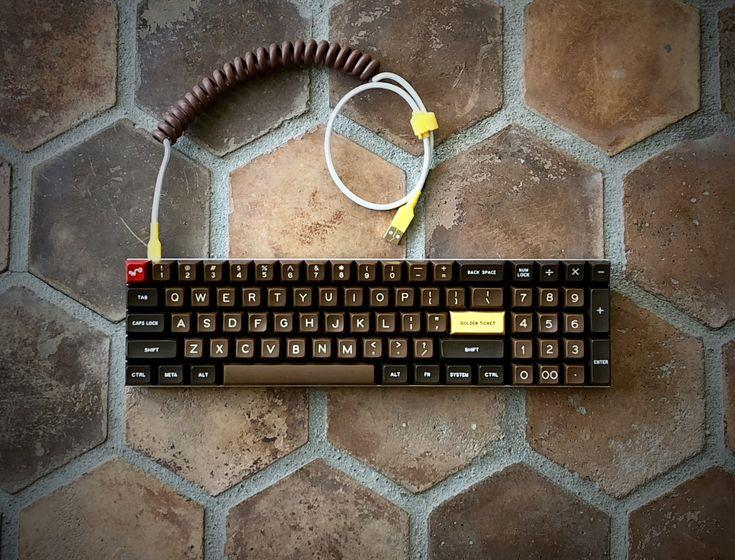keyboard: (124, 257, 612, 388)
